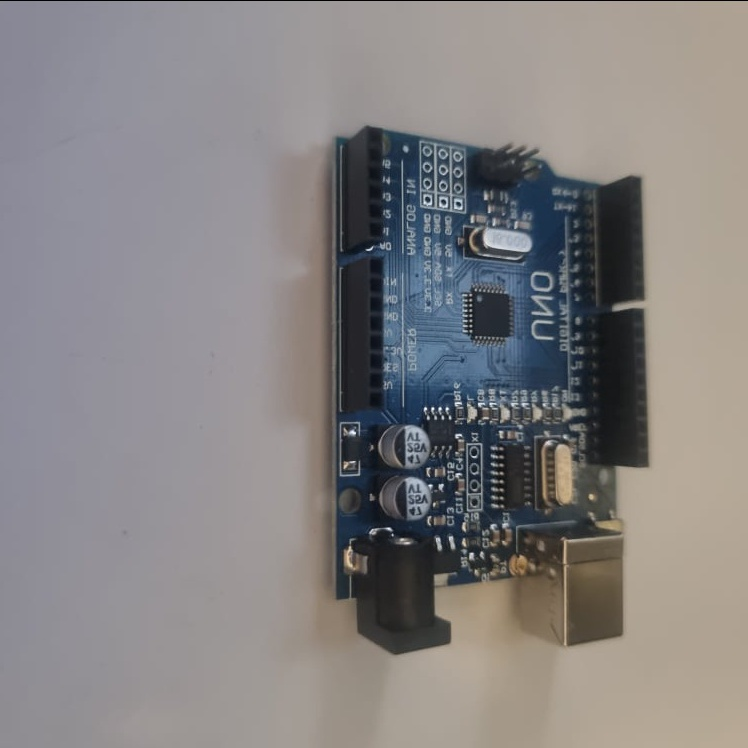UNO R3: (331, 121, 652, 648)
